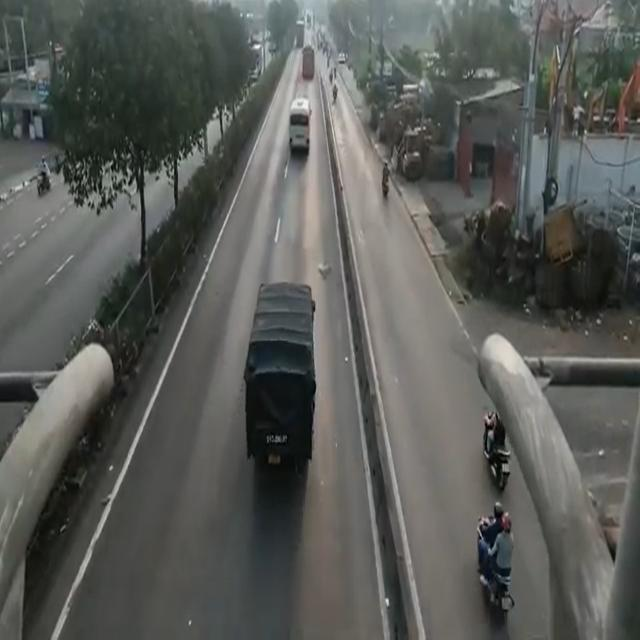bus: (285, 98, 314, 164)
motorbike: (476, 514, 512, 616), (483, 398, 506, 492)
truck: (251, 279, 315, 468)
